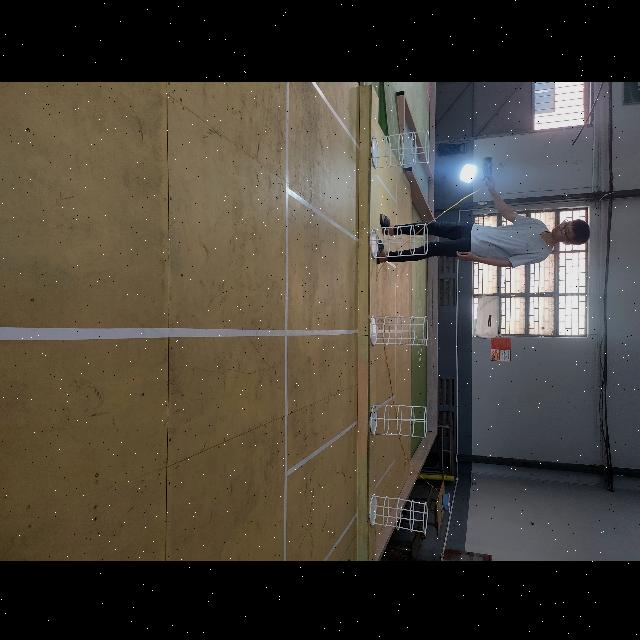S: (369, 492, 428, 534), (370, 127, 430, 167), (369, 221, 429, 257), (370, 402, 428, 436), (370, 314, 430, 344)
